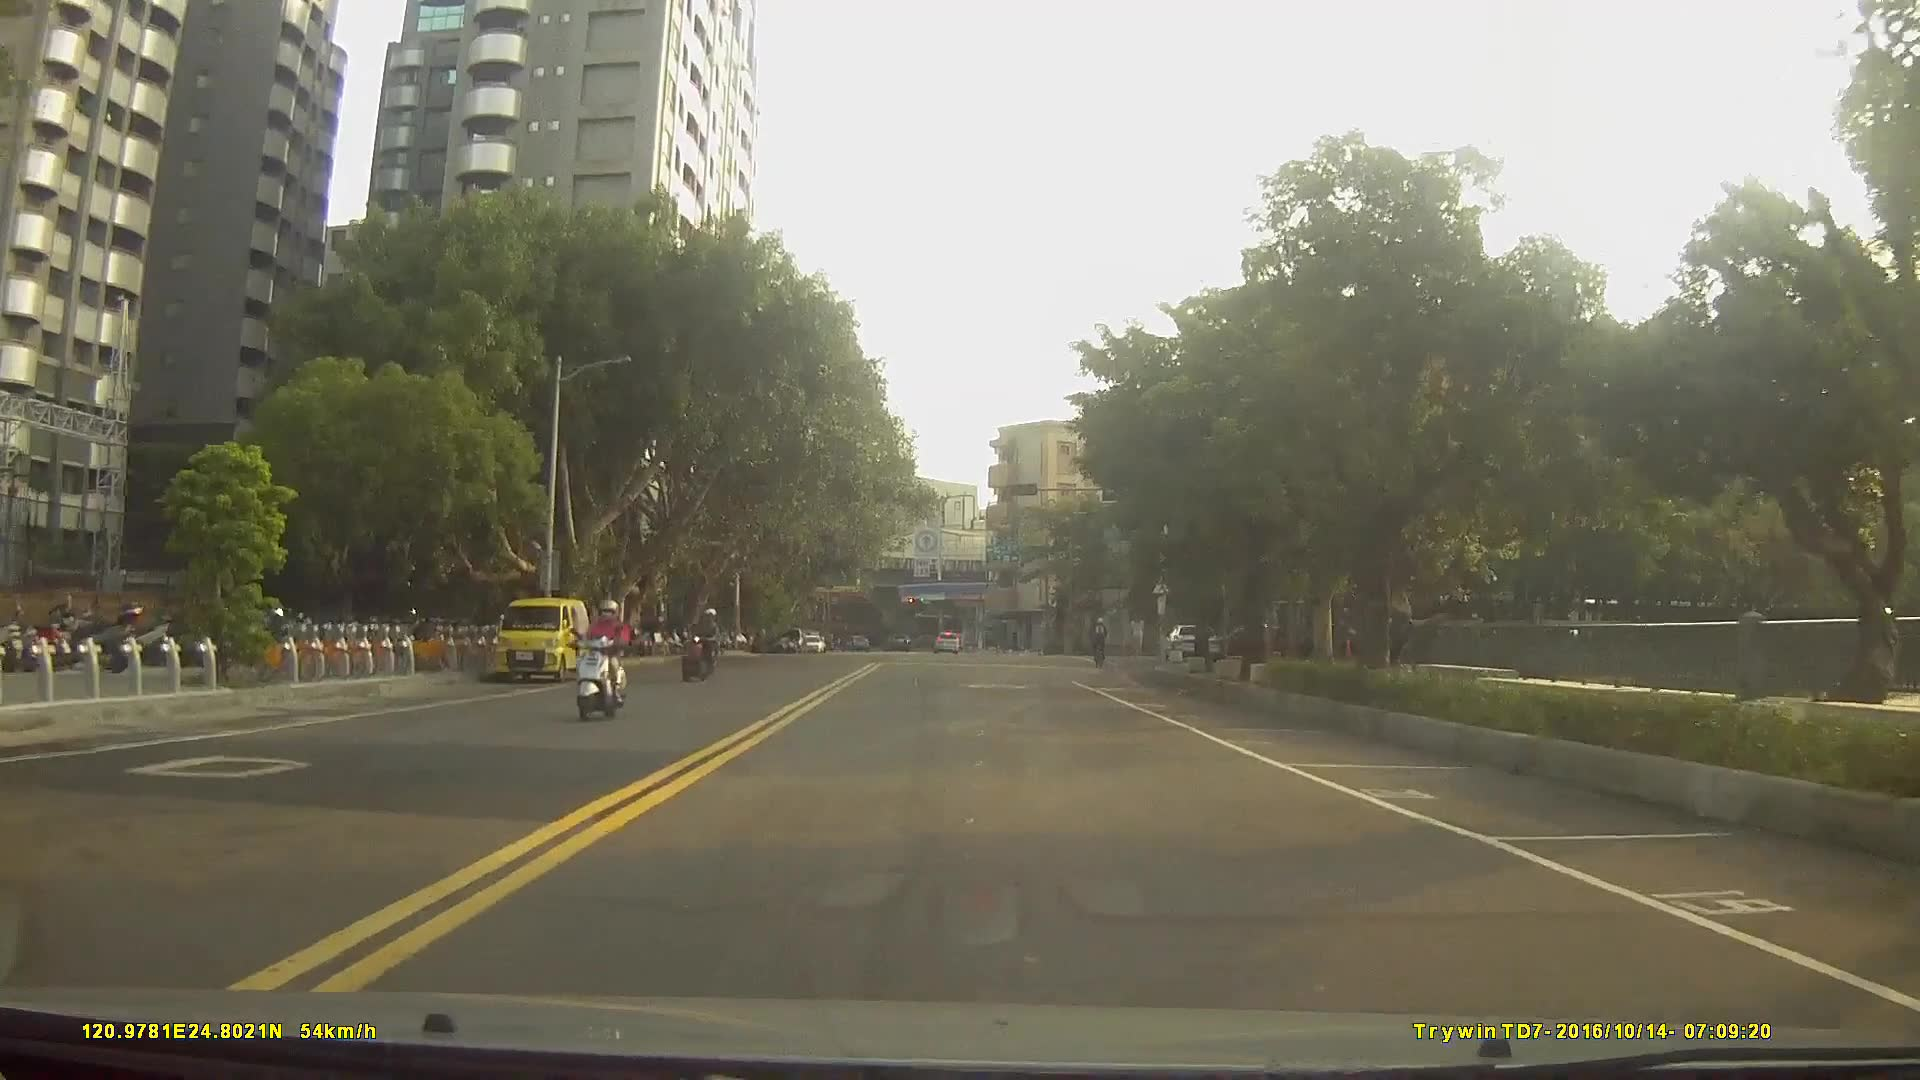pedestrian: (1126, 611, 1146, 659)
rider: (568, 598, 633, 721), (677, 606, 721, 681), (1090, 619, 1110, 673)
vehicle: (1161, 621, 1221, 662), (935, 630, 959, 652)
